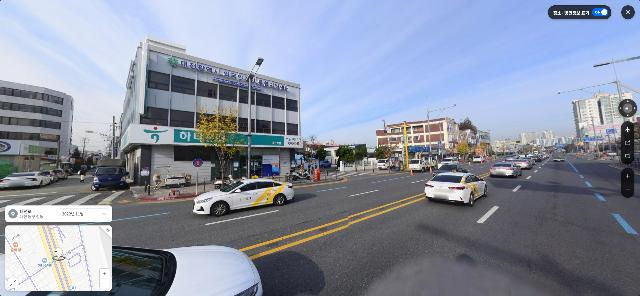ginkgo: (196, 96, 244, 188)
other: (300, 139, 317, 180), (369, 138, 390, 160), (337, 145, 357, 167), (317, 145, 328, 163)
